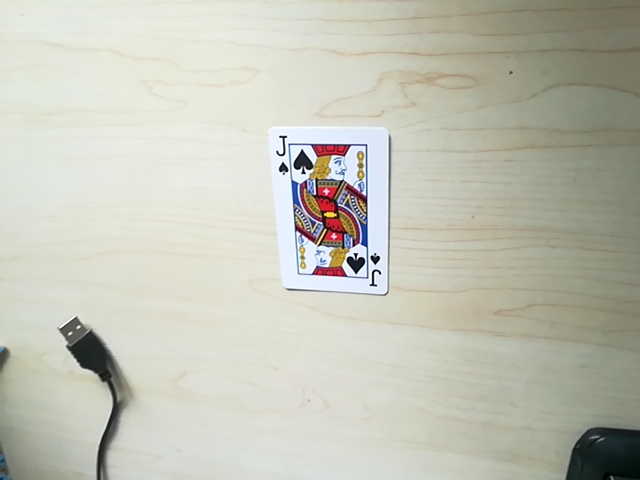ht j: (299, 254, 377, 290), (277, 133, 348, 167)
